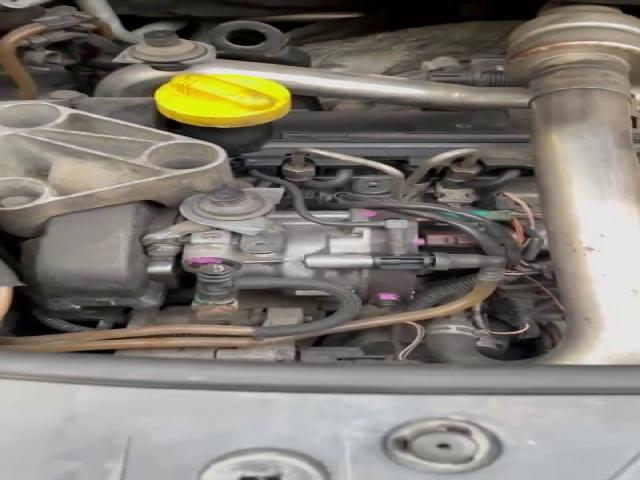high_pressure_pump: (179, 206, 434, 309)
